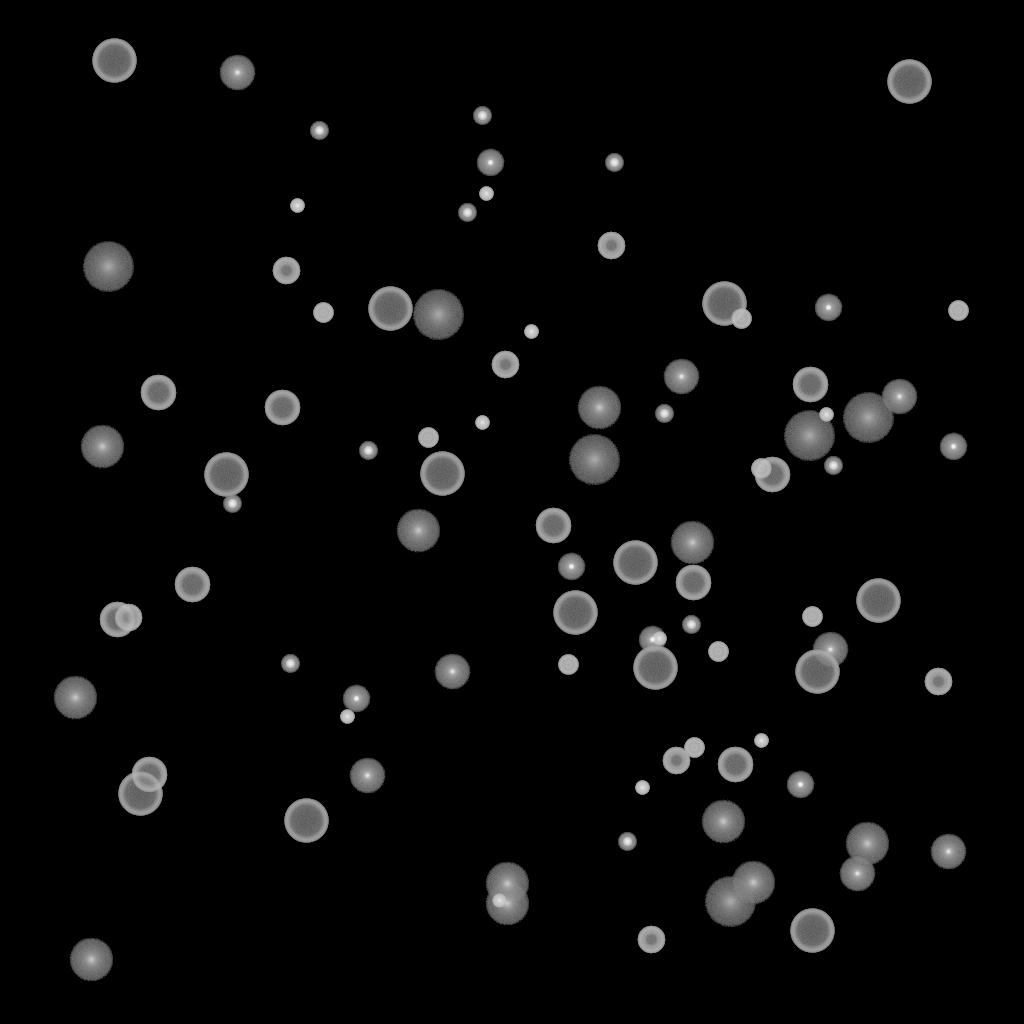depth:-10: (476, 149, 504, 177), (557, 553, 585, 581), (939, 433, 967, 461), (638, 626, 666, 654), (814, 294, 842, 322), (786, 771, 814, 799), (342, 685, 370, 713)
depth:-20: (605, 154, 623, 172), (655, 405, 673, 423), (682, 616, 700, 634), (223, 495, 241, 513), (618, 833, 636, 851), (359, 442, 377, 460), (824, 457, 842, 475), (458, 204, 476, 222), (310, 122, 328, 140), (473, 107, 491, 125), (281, 655, 299, 673)
depth:-30: (652, 632, 666, 646), (340, 710, 354, 724), (479, 187, 493, 201), (635, 781, 649, 795), (290, 199, 304, 213), (475, 416, 489, 430), (754, 734, 768, 748), (819, 408, 833, 422), (492, 894, 506, 908), (524, 325, 538, 339)
depth:-40: (751, 459, 771, 479), (418, 428, 438, 448), (948, 301, 968, 321), (731, 309, 751, 329), (558, 655, 578, 675), (313, 303, 333, 323), (802, 607, 822, 627), (708, 642, 728, 662), (684, 738, 704, 758)
depth:-50: (491, 351, 519, 379), (114, 604, 142, 632), (924, 668, 952, 696), (662, 747, 690, 775), (597, 232, 625, 260), (272, 257, 300, 285), (637, 926, 665, 954)
depth:-60: (675, 565, 711, 601), (792, 367, 828, 403), (140, 375, 176, 411), (535, 508, 571, 544), (174, 567, 210, 603), (99, 602, 135, 638), (754, 457, 790, 493), (264, 390, 300, 426), (717, 747, 753, 783), (131, 757, 167, 793)
depth:-70: (420, 452, 464, 496), (790, 909, 834, 953), (633, 646, 677, 690), (118, 772, 162, 816), (795, 650, 839, 694), (553, 591, 597, 635), (92, 39, 136, 83), (204, 453, 248, 497), (368, 287, 412, 331), (613, 541, 657, 585), (284, 799, 328, 843), (887, 60, 931, 104), (702, 282, 746, 326), (856, 579, 900, 623)
depth:0: (219, 55, 255, 91), (812, 632, 848, 668), (349, 758, 385, 794), (434, 654, 470, 690), (839, 856, 875, 892), (930, 834, 966, 870), (881, 379, 917, 415), (663, 359, 699, 395)
depth:10: (731, 861, 775, 905), (80, 425, 124, 469), (577, 386, 621, 430), (701, 800, 745, 844), (53, 676, 97, 720), (485, 882, 529, 926), (845, 822, 889, 866), (69, 938, 113, 982), (485, 862, 529, 906), (396, 509, 440, 553), (670, 521, 714, 565)
depth:20: (783, 411, 835, 461), (568, 435, 620, 485), (82, 242, 134, 292), (412, 290, 464, 340), (842, 393, 894, 443), (704, 877, 756, 927)
